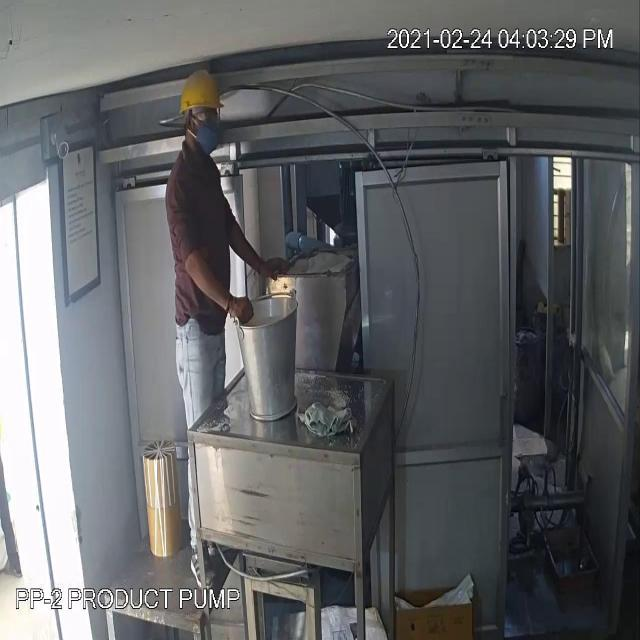helmet: (177, 70, 233, 124)
